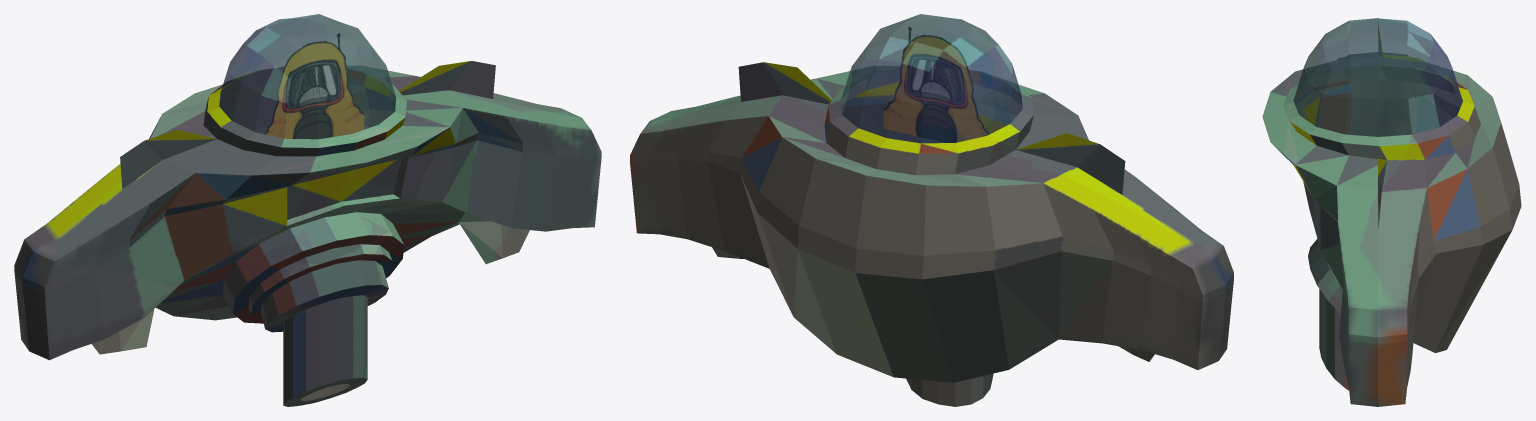
The model's file is ship_purifying.glb.
3 views of the same model, side by side, from view 1: azimuth 30°, elevation 25°; view 2: azimuth 150°, elevation 25°; view 3: azimuth 270°, elevation 25° (orthographic). The views are drawn at different scales.
Parts seen in each view (by area): view 1: ship_purifying; view 2: ship_purifying; view 3: ship_purifying.
Boxes of the visible parts, left/top/right/bottom form: ship_purifying: left=14, top=14, right=601, bottom=406; ship_purifying: left=630, top=14, right=1233, bottom=406; ship_purifying: left=1262, top=18, right=1521, bottom=406.
Size of the model in its own units: 2.21 by 1.36 by 0.9021.
Materials: 1 (1 with a texture image).
